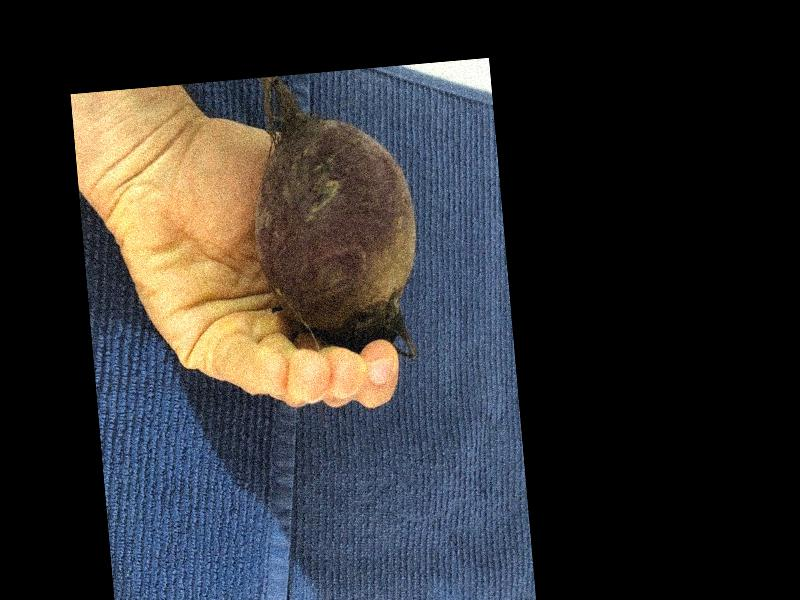Beet: (241, 68, 425, 374)
